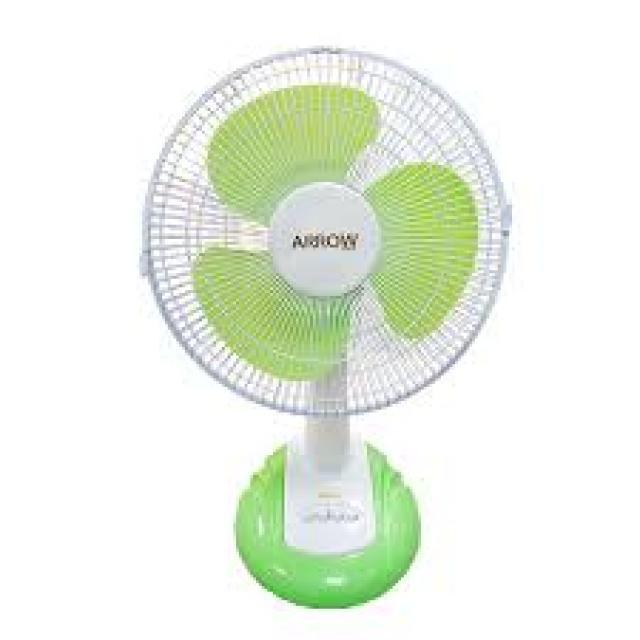fan: (112, 23, 554, 622)
